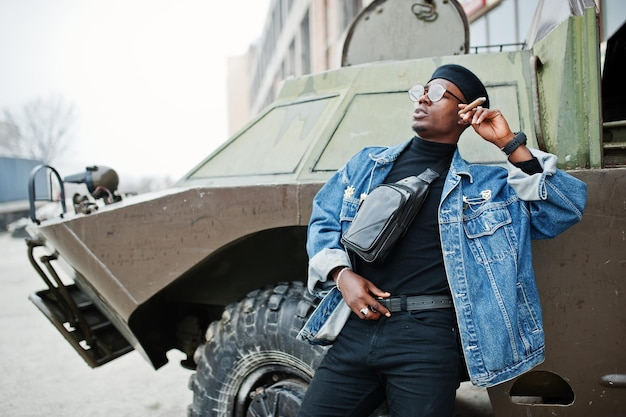cigarette: (458, 96, 486, 115)
